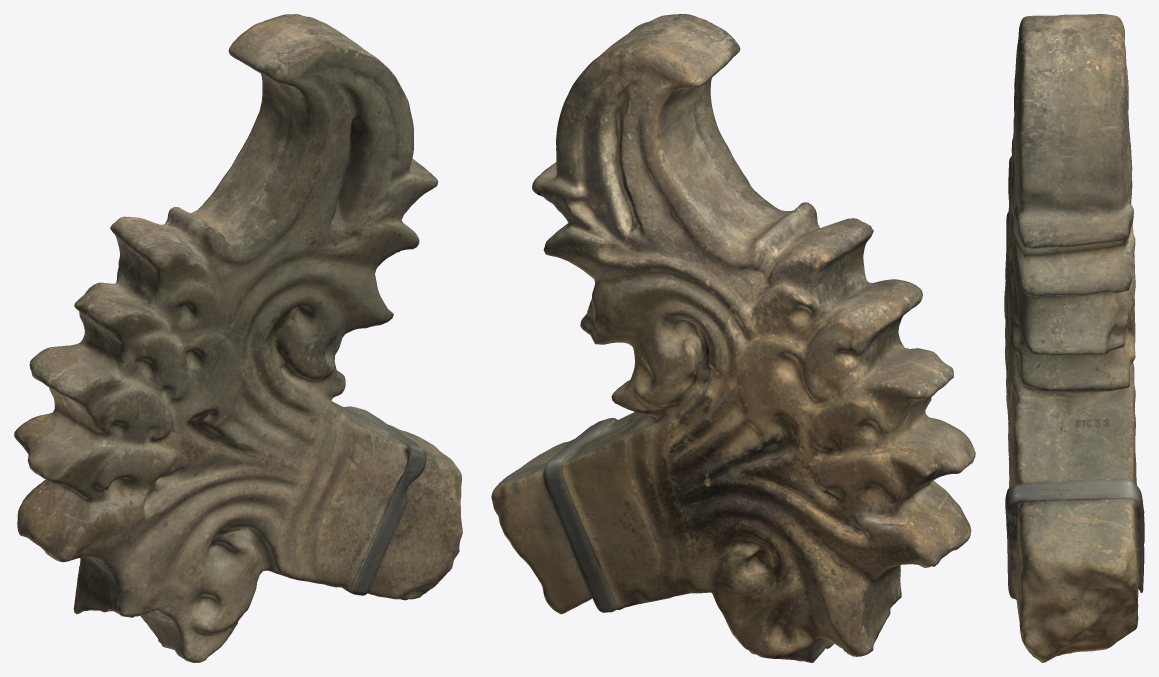
Rendered from 31_vattrangtri.glb.
The picture shows the model from 3 angles, left to right: view 1: azimuth 30°, elevation 25°; view 2: azimuth 150°, elevation 25°; view 3: azimuth 270°, elevation 25°; orthographic projection. The views are drawn at different scales.
Visible parts, largest first — view 1: remesh; view 2: remesh; view 3: remesh.
Boxes of the visible parts, left/top/right/bottom form: remesh: left=14, top=14, right=462, bottom=662; remesh: left=491, top=14, right=975, bottom=662; remesh: left=1004, top=14, right=1144, bottom=662.
Bounding box in the file's own units: 0.4296 × 0.5594 × 0.121.
Materials: 1 (1 with a texture image).
